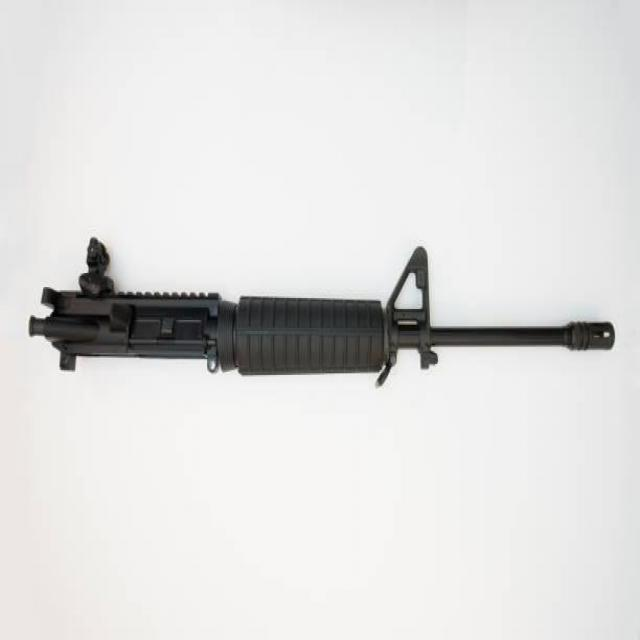heavy-weapon: (29, 236, 616, 390)
